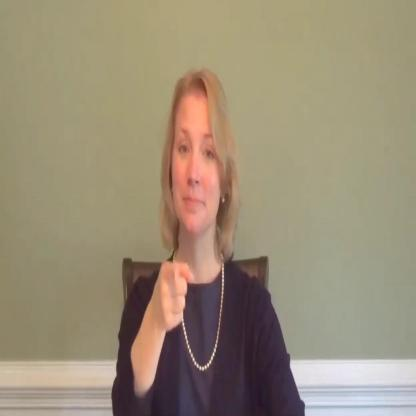NiceToMeetYou: (111, 66, 305, 416)
